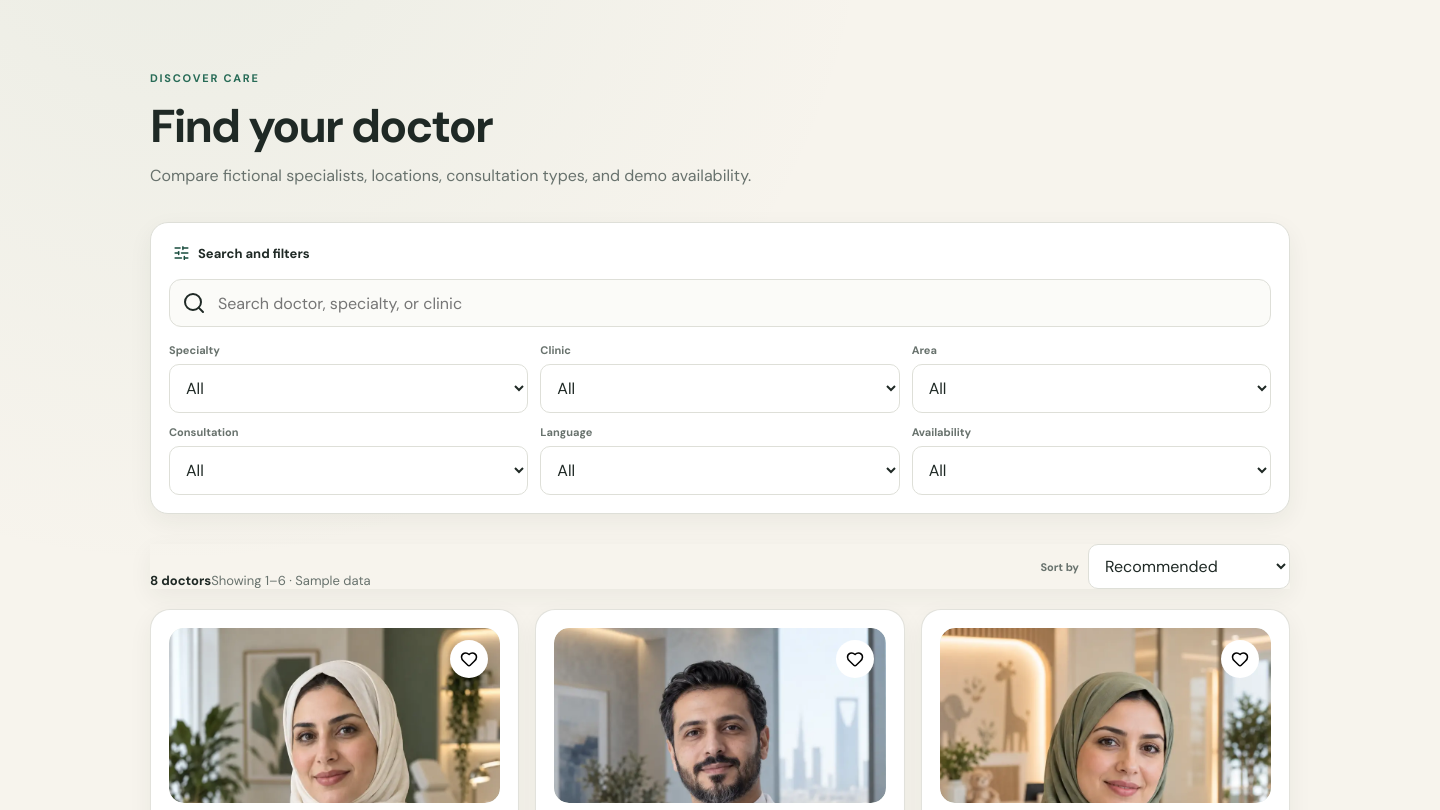
Test case: Doctors page › shows an empty state for no matches, and 'Clear filters' restores results
Type "zzz-no-such-doctor" into the search field with placeholder "Search doctor, specialty, or clinic" at (737, 303), box [216, 292, 1258, 314]
(page scrolled)
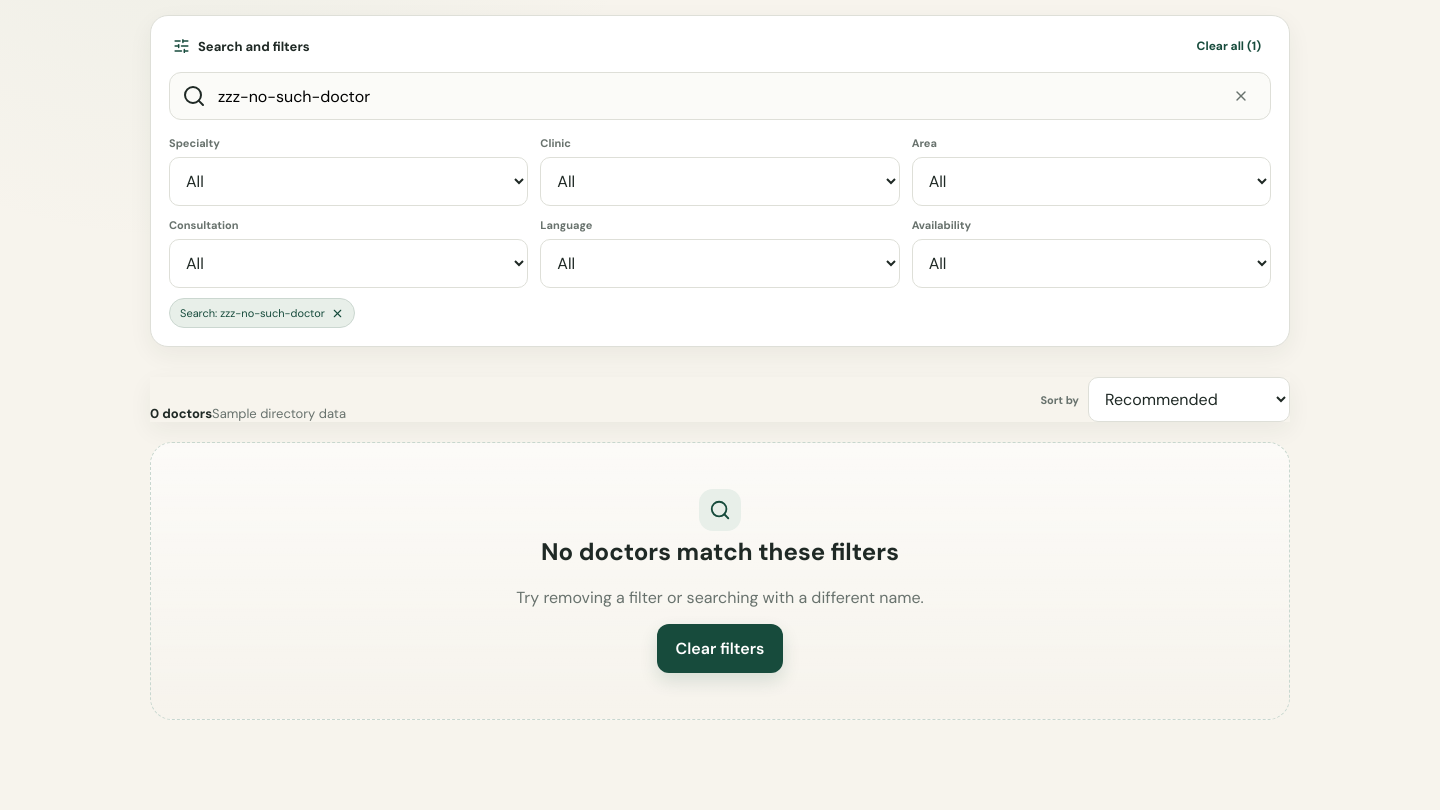
Now the heading "No doctors match these filters" is shown, box [541, 536, 899, 567]
Click the button "Clear filters" at (720, 648), box [658, 624, 782, 673]
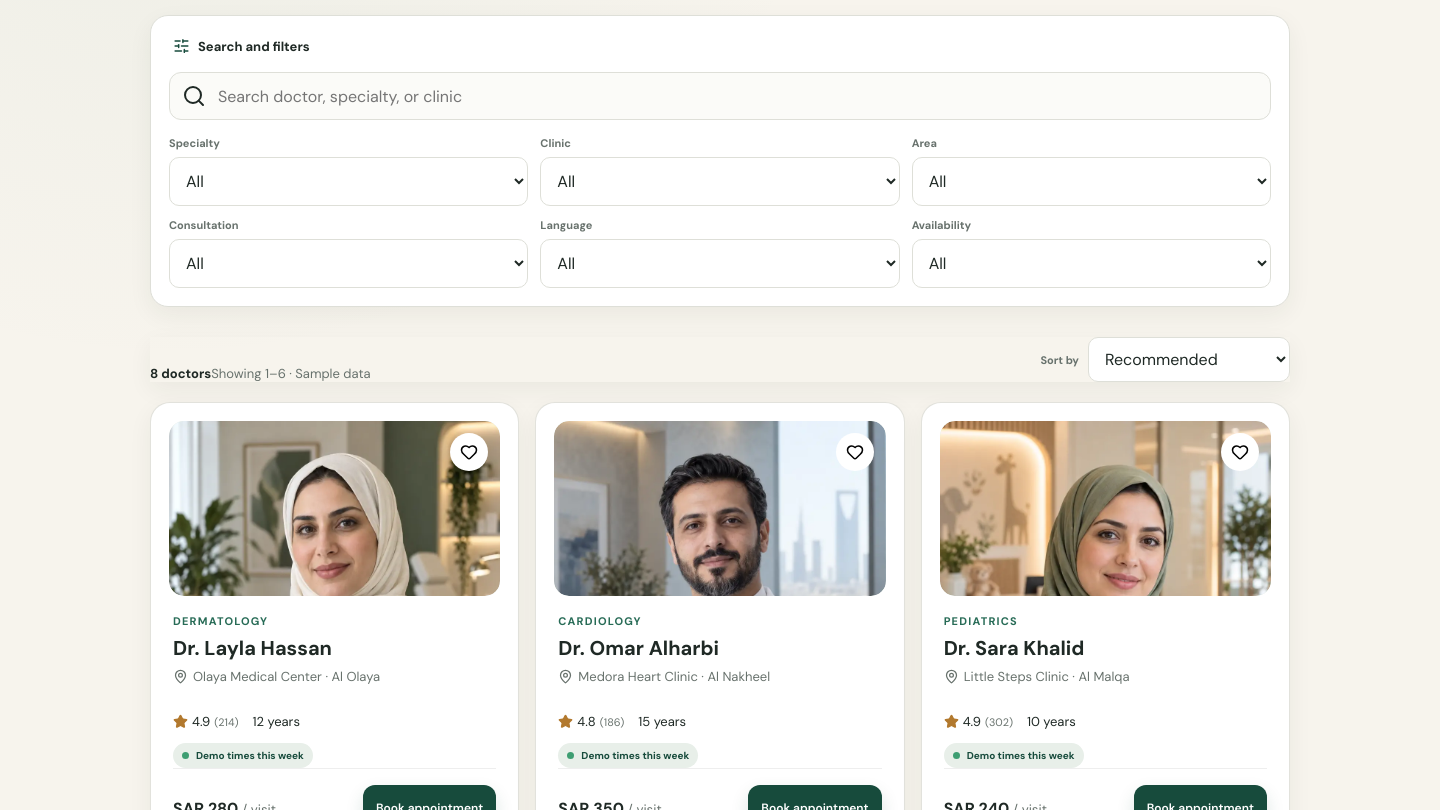
Now the link "Dr. Layla Hassan" is shown, box [173, 635, 332, 661]
